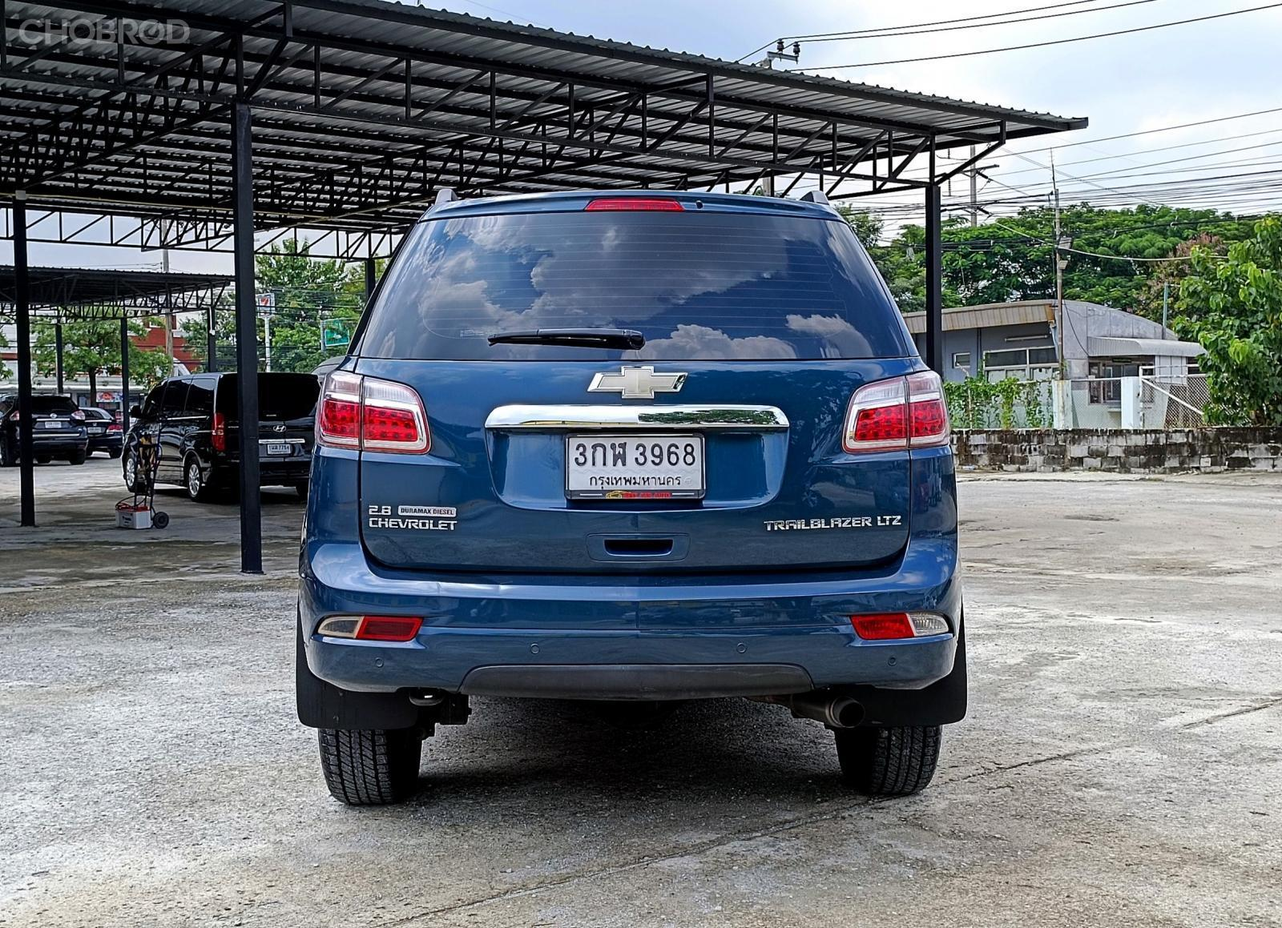license-plate: (560, 430, 711, 512)
